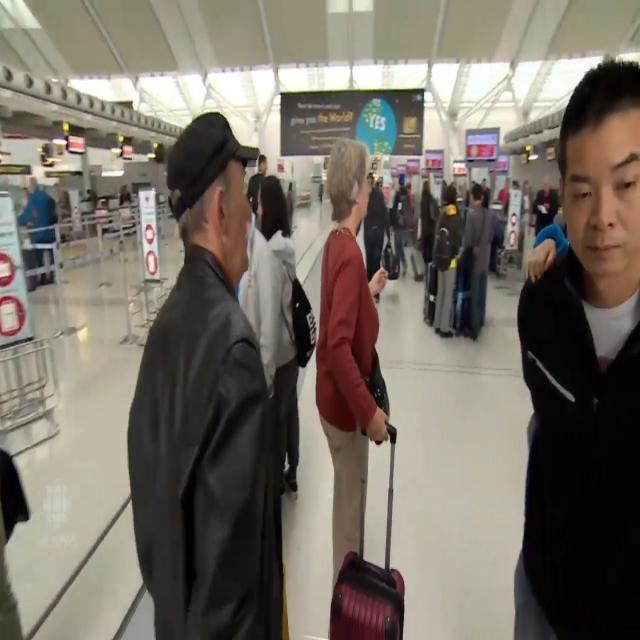luggage: (329, 548, 408, 640), (451, 267, 475, 335), (426, 259, 444, 326)
